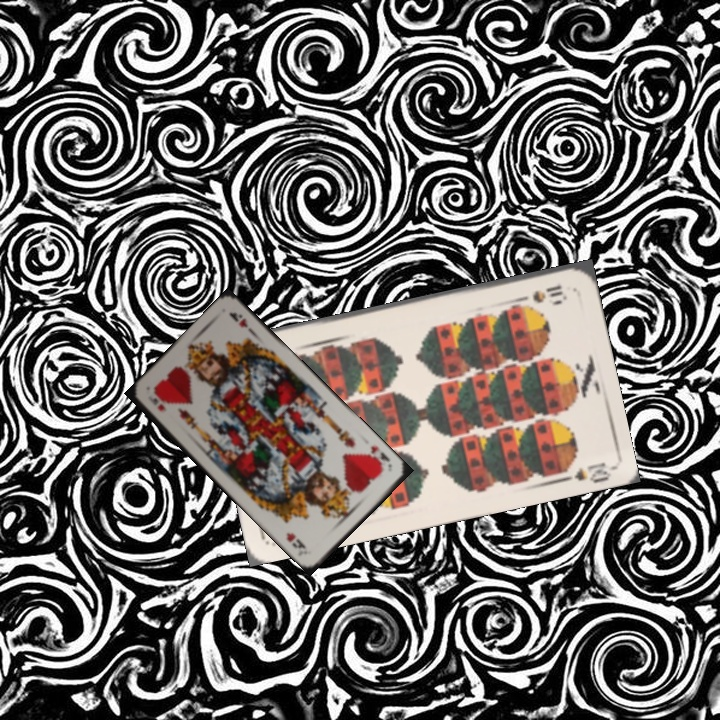HK: (364, 442, 394, 472), (144, 393, 169, 414)
S10: (513, 281, 569, 305)
